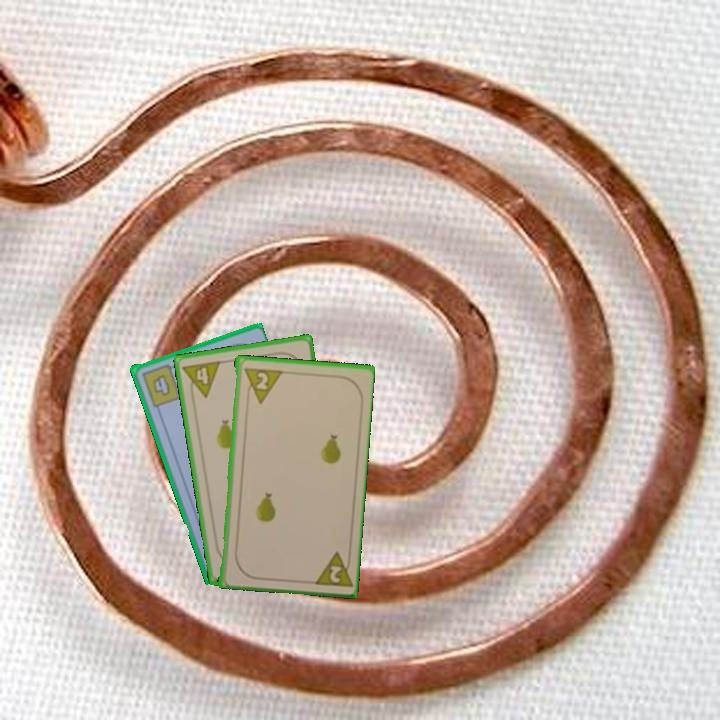2p: (308, 547, 353, 590), (240, 364, 283, 406)
4b: (138, 360, 183, 409)
4p: (179, 357, 223, 402)
